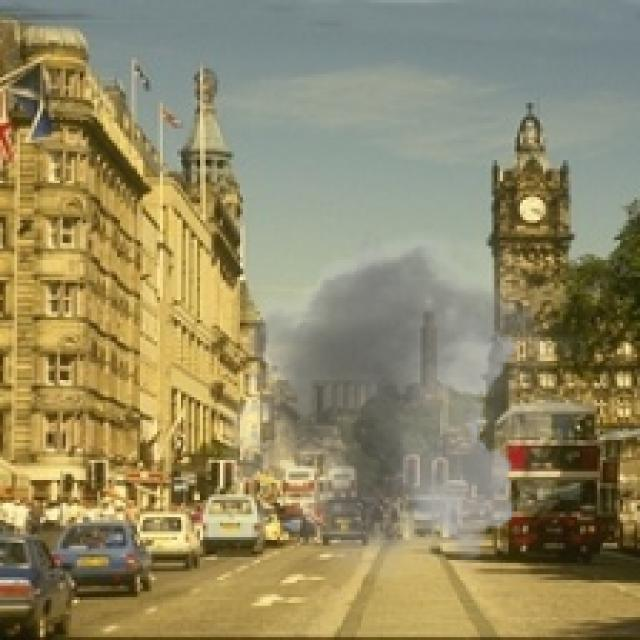Smoke: (202, 217, 594, 583)
